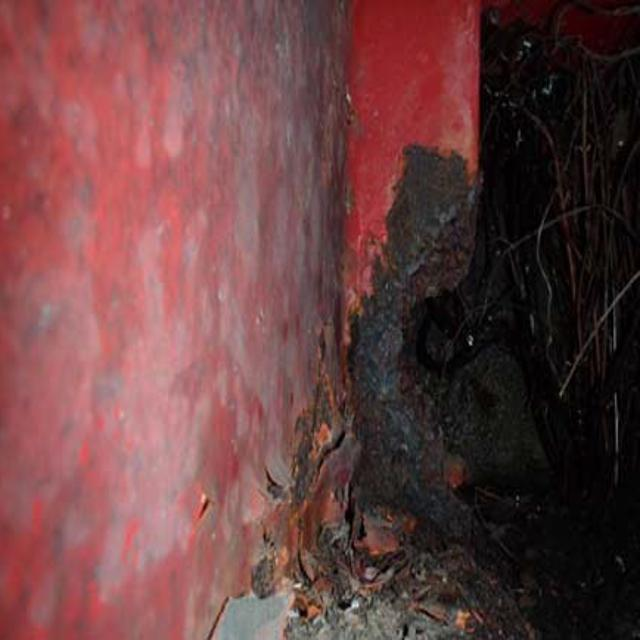corrosion: (230, 143, 516, 596)
